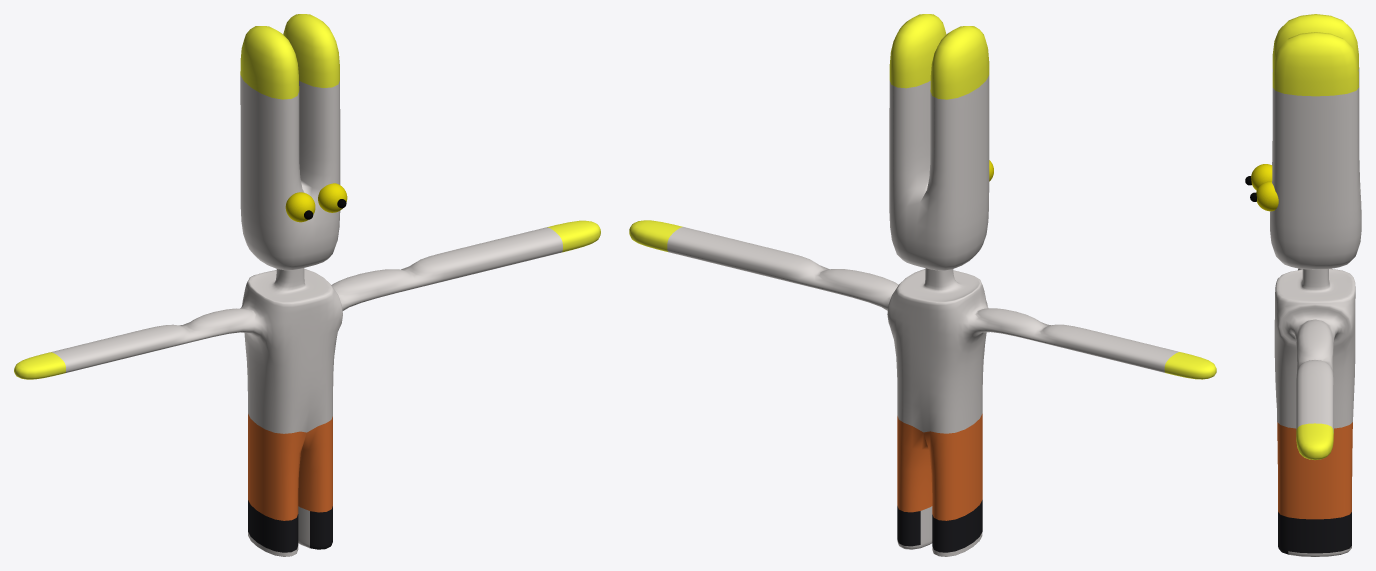
The model's file is student-03.glb.
The picture shows the model from 3 angles, left to right: view 1: azimuth 30°, elevation 25°; view 2: azimuth 150°, elevation 25°; view 3: azimuth 270°, elevation 25°; orthographic projection.
Parts seen in each view (by area): view 1: Character; view 2: Character; view 3: Character.
Boxes of the visible parts, x1,y1,x2,y2 form: Character: (14, 14, 600, 556); Character: (629, 14, 1216, 556); Character: (1245, 14, 1361, 556).
Bounding box in the file's own units: 5.81 × 4.93 × 1.01.
